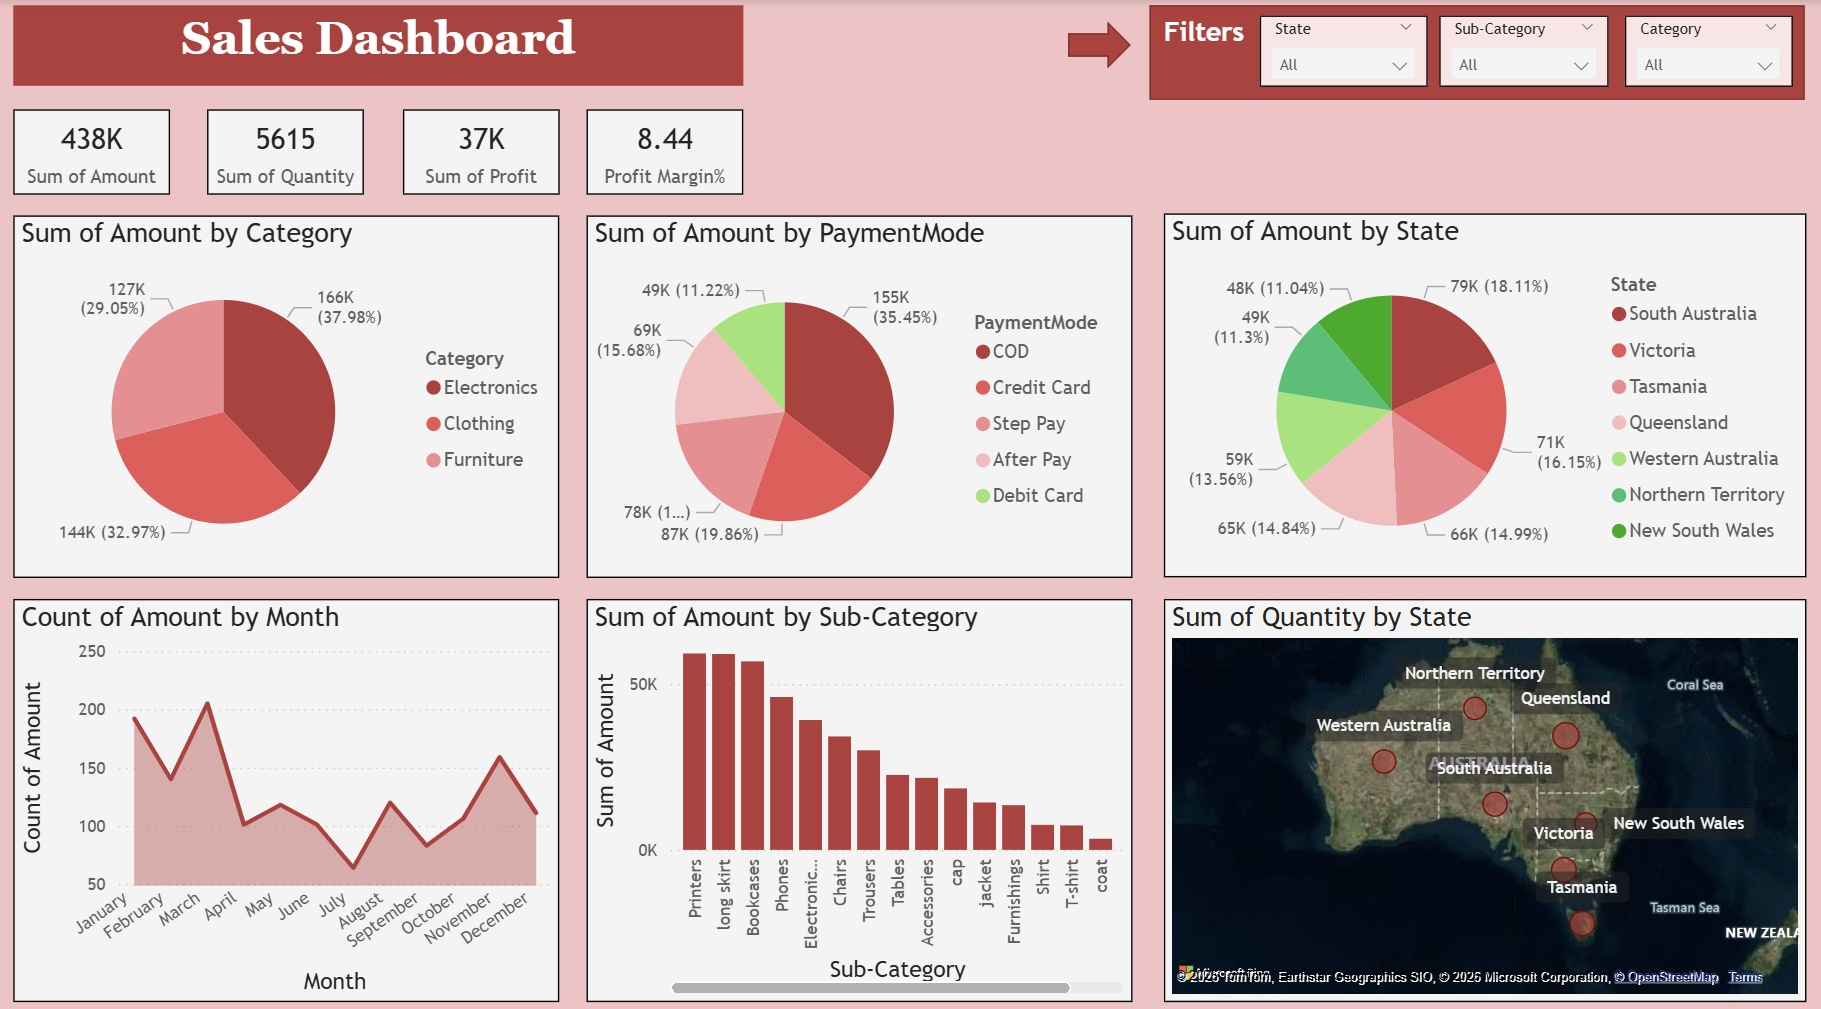

The page's visual inventory and layout, read from the dashboard file:
{"tool":"powerbi","page":{"name":"Sales Overview","canvas":[1280,720],"ordinal":0},"visuals":[{"type":"shape","box":[806.2,10,458.8,66.2],"z":0},{"type":"slicer","fields":{"Values":["Details.Category"]},"box":[1138.8,17.5,117.5,50],"z":1000},{"type":"slicer","fields":{"Values":["Details.Sub-Category"]},"box":[1008.8,17.5,118.8,50],"z":2000},{"type":"slicer","fields":{"Values":["Orders_Australia.State"]},"box":[882.5,17.5,117.5,50],"z":3000},{"type":"pieChart","fields":{"Category":["Details.Category"],"Y":["Sum(Details.Amount)"]},"box":[10,157.5,382.5,253.8],"z":4000},{"type":"pieChart","fields":{"Category":["Orders_Australia.State"],"Y":["Sum(Details.Amount)"]},"box":[815,156.2,450,255],"z":5000},{"type":"pieChart","fields":{"Category":["Details.PaymentMode"],"Y":["Sum(Details.Amount)"]},"box":[411.2,157.5,382.5,253.8],"z":6000},{"type":"areaChart","fields":{"Category":["Orders_Australia.Order Date.Variation.Date Hierarchy.Month","Orders_Australia.Order Date.Variation.Date Hierarchy.Day"],"Y":["CountNonNull(Details.Amount)"]},"box":[10,426.2,382.5,282.5],"z":7000},{"type":"map","fields":{"Category":["Orders_Australia.State"],"Size":["Sum(Details.Quantity)"]},"box":[815,426.2,450,282.5],"z":8000},{"type":"card","fields":{"Values":["Sum(Details.Amount)"]},"box":[10,82.5,110,60],"z":9000},{"type":"card","fields":{"Values":["Sum(Details.Profit)"]},"box":[282.5,82.5,110,60],"z":10000},{"type":"card","fields":{"Values":["Sum(Details.Quantity)"]},"box":[146.2,82.5,110,60],"z":11000},{"type":"card","fields":{"Values":["Details.Profit Margin%"]},"box":[411.2,82.5,110,60],"z":12000},{"type":"columnChart","fields":{"Category":["Details.Sub-Category"],"Y":["Sum(Details.Amount)"]},"box":[411.2,426.2,382.5,282.5],"z":13000},{"type":"textbox","box":[10,10,511.2,56.2],"z":14000},{"type":"textbox","box":[815,17.5,63.8,48.8],"z":15000},{"type":"shape","box":[748.9,21.5,44.1,32.8],"z":16000}]}

Visuals, with their boxes in screenshot pixels (x1, y1, x2, y2), scaled from the page's 1280x720 canvas onto the 1821x1009 screenshot:
shape: rect(1147, 14, 1800, 107)
slicer - Details.Category: rect(1620, 25, 1787, 95)
slicer - Details.Sub-Category: rect(1435, 25, 1604, 95)
slicer - Orders_Australia.State: rect(1255, 25, 1423, 95)
pieChart - Details.Category x Sum(Details.Amount): rect(14, 221, 558, 576)
pieChart - Orders_Australia.State x Sum(Details.Amount): rect(1159, 219, 1800, 576)
pieChart - Details.PaymentMode x Sum(Details.Amount): rect(585, 221, 1129, 576)
areaChart - Orders_Australia.Order Date.Variation.Date Hierarchy.Month x Orders_Australia.Order Date.Variation.Date Hierarchy.Day: rect(14, 597, 558, 993)
map - Orders_Australia.State x Sum(Details.Quantity): rect(1159, 597, 1800, 993)
card - Sum(Details.Amount): rect(14, 116, 171, 200)
card - Sum(Details.Profit): rect(402, 116, 558, 200)
card - Sum(Details.Quantity): rect(208, 116, 364, 200)
card - Details.Profit Margin%: rect(585, 116, 741, 200)
columnChart - Details.Sub-Category x Sum(Details.Amount): rect(585, 597, 1129, 993)
textbox: rect(14, 14, 741, 93)
textbox: rect(1159, 25, 1250, 93)
shape: rect(1065, 30, 1128, 76)
